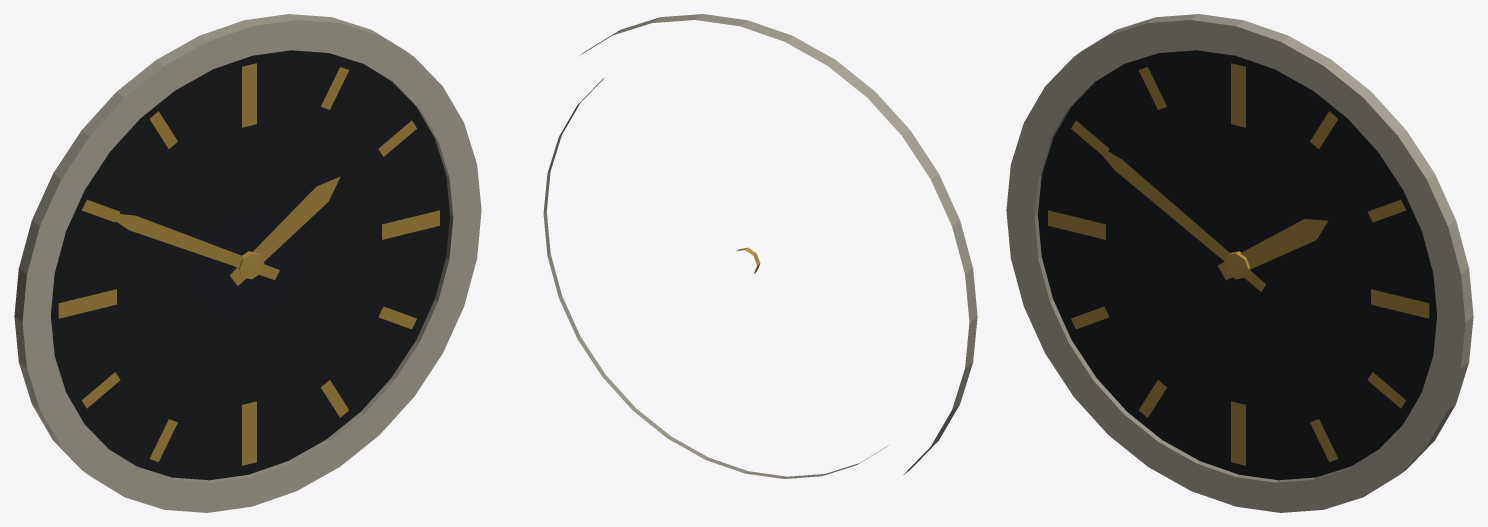
File: sign.clock_face.black.glb
3 renders of one model, left to right at view 1: azimuth 30°, elevation 25°; view 2: azimuth 150°, elevation 25°; view 3: azimuth 330°, elevation 25°, orthographic.
Visible parts, largest first — view 1: sign_clock_face_black; view 2: sign_clock_face_black; view 3: sign_clock_face_black.
Boxes of the visible parts, left/top/right/bottom form: sign_clock_face_black: left=14, top=14, right=481, bottom=512; sign_clock_face_black: left=543, top=14, right=977, bottom=478; sign_clock_face_black: left=1006, top=14, right=1473, bottom=512.
Size of what is drawn, in the model's own units: 2.6 by 2.6 by 0.08.
